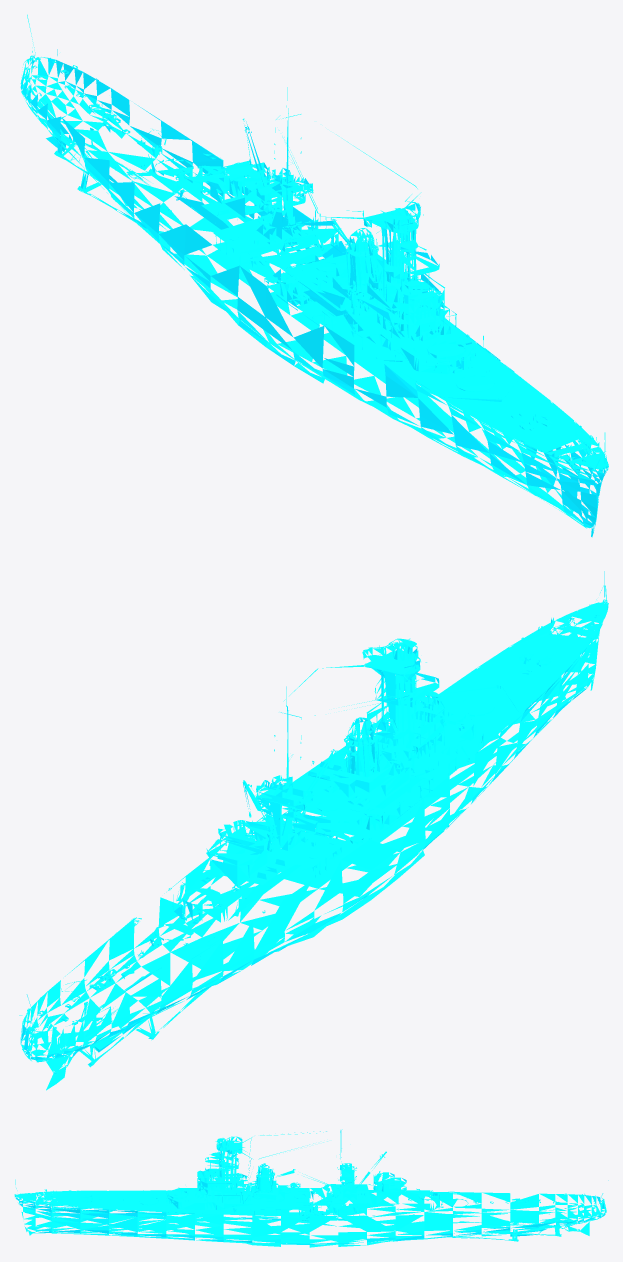
File: Algerie.glb
3 views of the same model, one above another, from view 1: azimuth 30°, elevation 25°; view 2: azimuth 150°, elevation 25°; view 3: azimuth 270°, elevation 25° (orthographic). The views are drawn at different scales.
Size of the model in its own units: 1.52 by 2.71 by 12.45.
